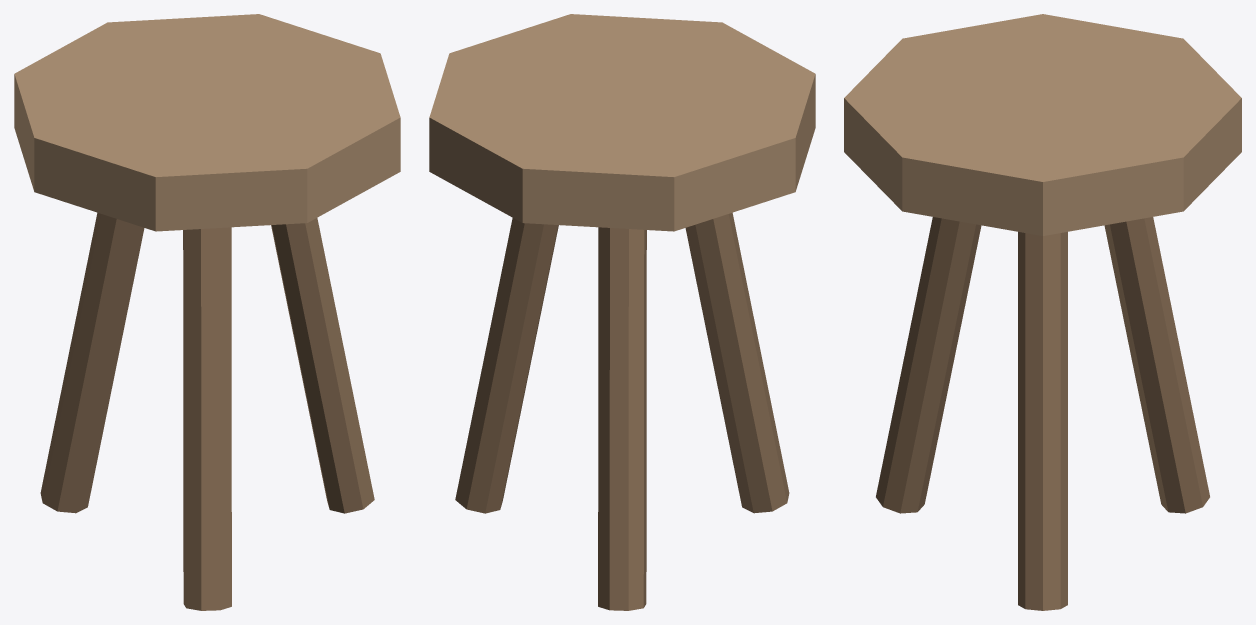
The model's file is stool.glb.
3 views of the same model, side by side, from view 1: azimuth 30°, elevation 25°; view 2: azimuth 150°, elevation 25°; view 3: azimuth 270°, elevation 25° (orthographic).
Visible parts, largest first — view 1: stool_wood; view 2: stool_wood; view 3: stool_wood.
Boxes of the visible parts, bbox=[...] form: stool_wood: bbox=[14, 14, 400, 610]; stool_wood: bbox=[429, 14, 815, 610]; stool_wood: bbox=[844, 14, 1241, 610].
Bounding box in the file's own units: 0.4 × 0.4904 × 0.4.
